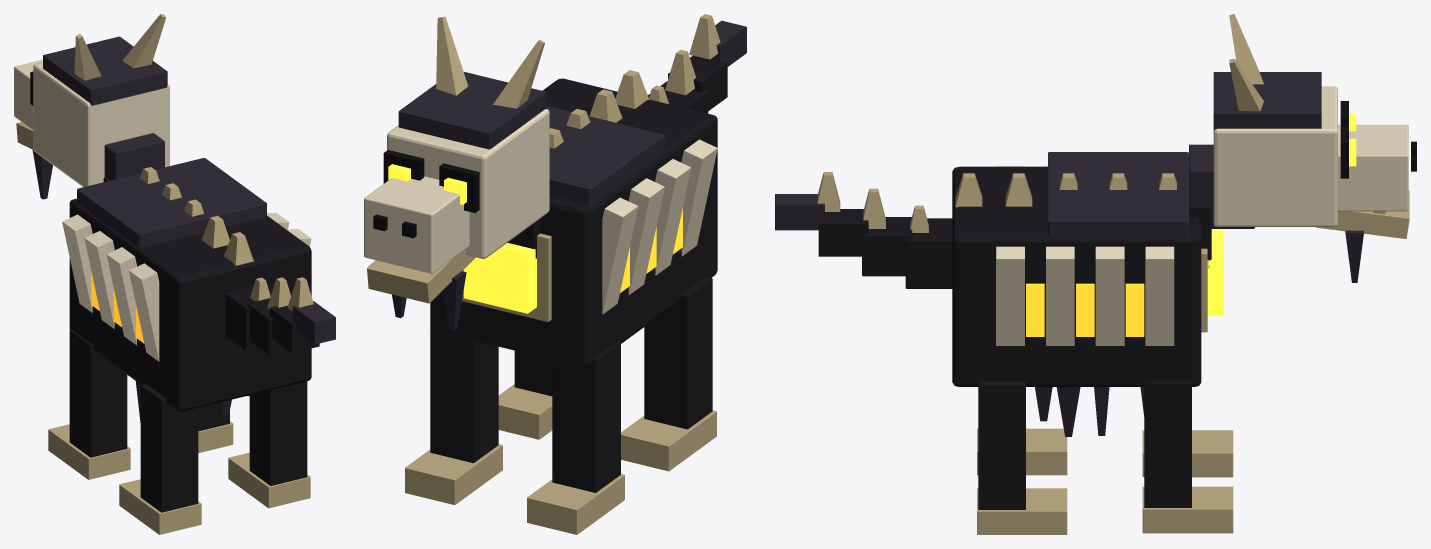
File: tarpitan.glb
The picture shows the model from 3 angles, left to right: view 1: azimuth 30°, elevation 25°; view 2: azimuth 150°, elevation 25°; view 3: azimuth 270°, elevation 25°; orthographic projection. The views are drawn at different scales.
Parts seen in each view (by area): view 1: body, head, leg.BR, leg.FR, leg.BL, tail, leg.FL; view 2: body, head, leg.FR, leg.BR, leg.FL, tail, leg.BL; view 3: body, head, tail, leg.FL, leg.BL, leg.FR, leg.BR.
Part boxes in pixels (left/top/right/bottom): body: left=62, top=133, right=311, bottom=422; head: left=14, top=14, right=169, bottom=199; leg.BR: left=119, top=384, right=201, bottom=534; leg.FR: left=48, top=330, right=130, bottom=479; leg.BL: left=228, top=381, right=310, bottom=508; tail: left=225, top=277, right=335, bottom=355; leg.FL: left=198, top=403, right=233, bottom=452; body: left=430, top=70, right=717, bottom=367; head: left=364, top=16, right=549, bottom=330; leg.FR: left=527, top=341, right=624, bottom=534; leg.BR: left=621, top=276, right=716, bottom=471; leg.FL: left=405, top=327, right=502, bottom=504; tail: left=647, top=14, right=746, bottom=113; leg.BL: left=498, top=350, right=552, bottom=439; body: left=952, top=144, right=1255, bottom=436; head: left=1213, top=14, right=1416, bottom=282; tail: left=775, top=172, right=952, bottom=288; leg.FL: left=1142, top=381, right=1233, bottom=533; leg.BL: left=977, top=381, right=1067, bottom=534; leg.FR: left=1142, top=430, right=1233, bottom=477; leg.BR: left=977, top=428, right=1067, bottom=475.
Bounding box in the file's own units: 0.4349 × 1 × 1.27.
